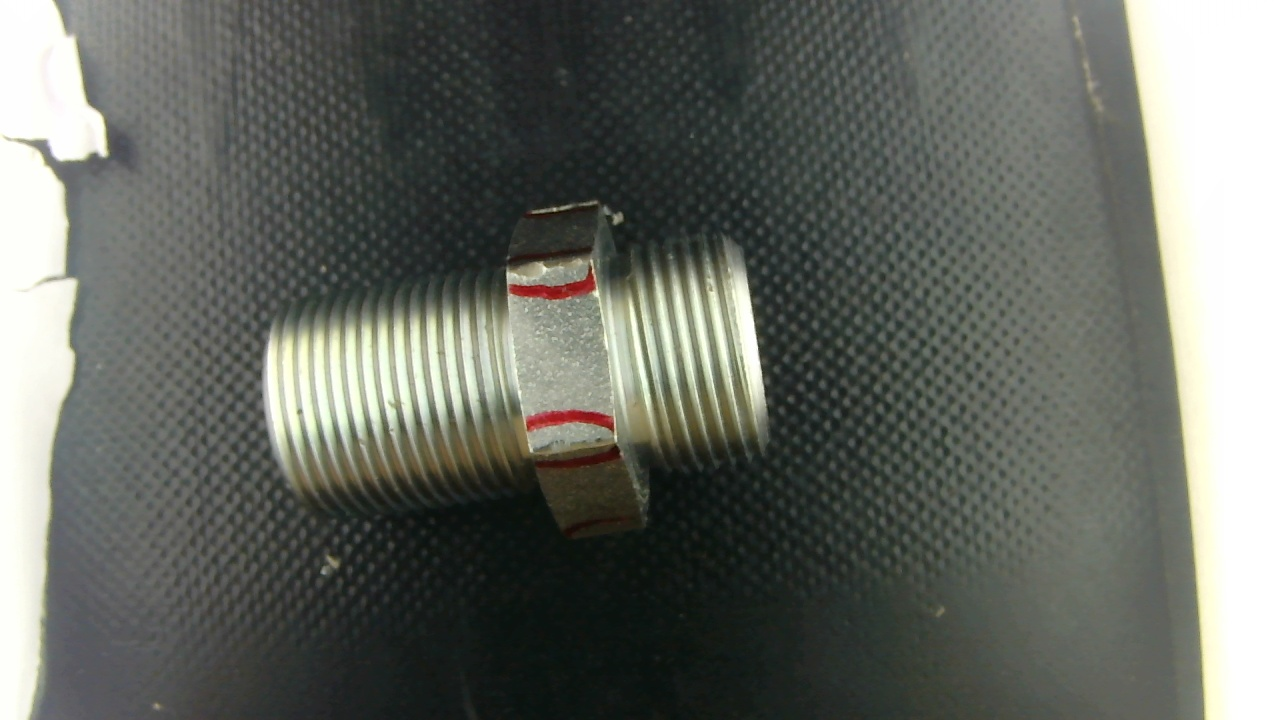Hex_damage: (501, 251, 595, 288)
